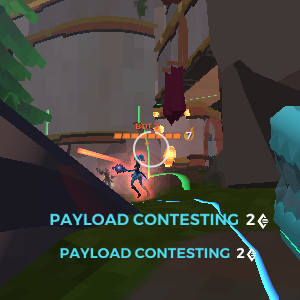model: (114, 147, 154, 201)
